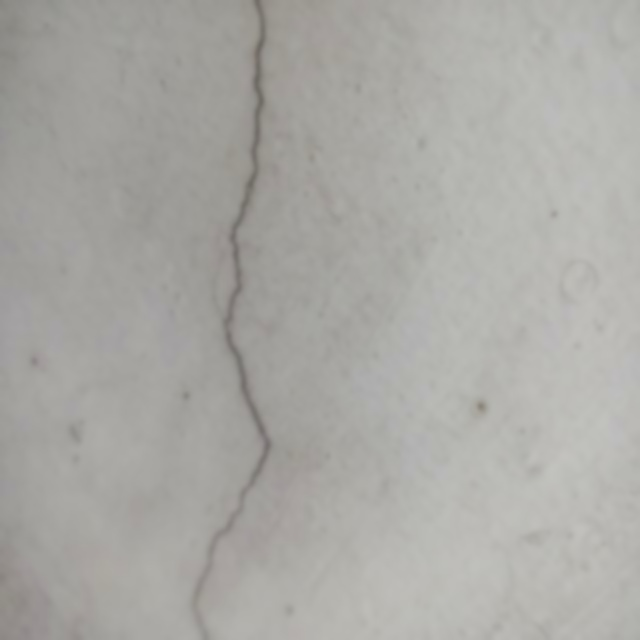SurfaceCrack: (152, 0, 317, 640)
